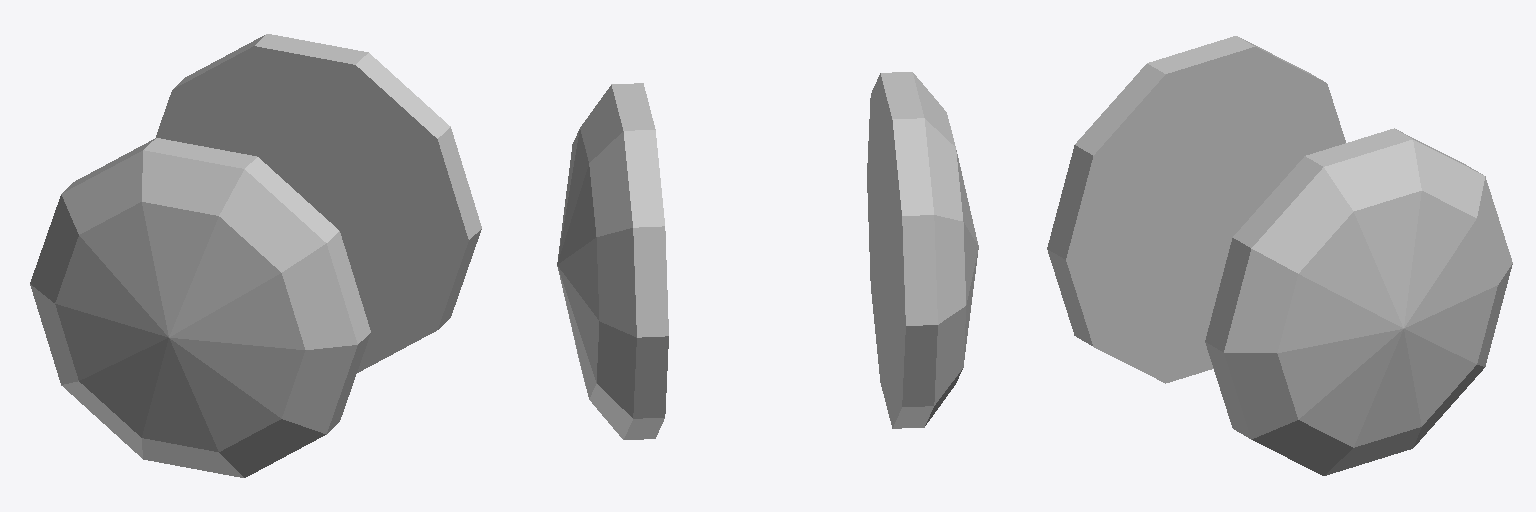
The picture shows the model from 3 angles: view 1: azimuth 30°, elevation 25°; view 2: azimuth 150°, elevation 25°; view 3: azimuth 270°, elevation 25°; orthographic projection.
Parts seen in each view (by area): view 1: part27:wheel 3; view 2: part27:wheel 3; view 3: part27:wheel 3.
Boxes of the visible parts, box(x1,y1,x2,y2) form: part27:wheel 3: box(30, 34, 481, 477); part27:wheel 3: box(557, 72, 978, 439); part27:wheel 3: box(1047, 36, 1512, 475).
Bounding box in the file's own units: 0.0536 × 0.0397 × 0.0541.